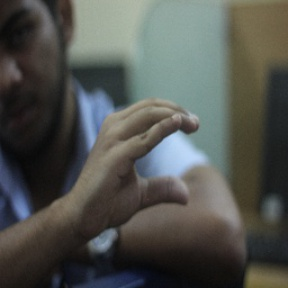C: (95, 94, 204, 219)
